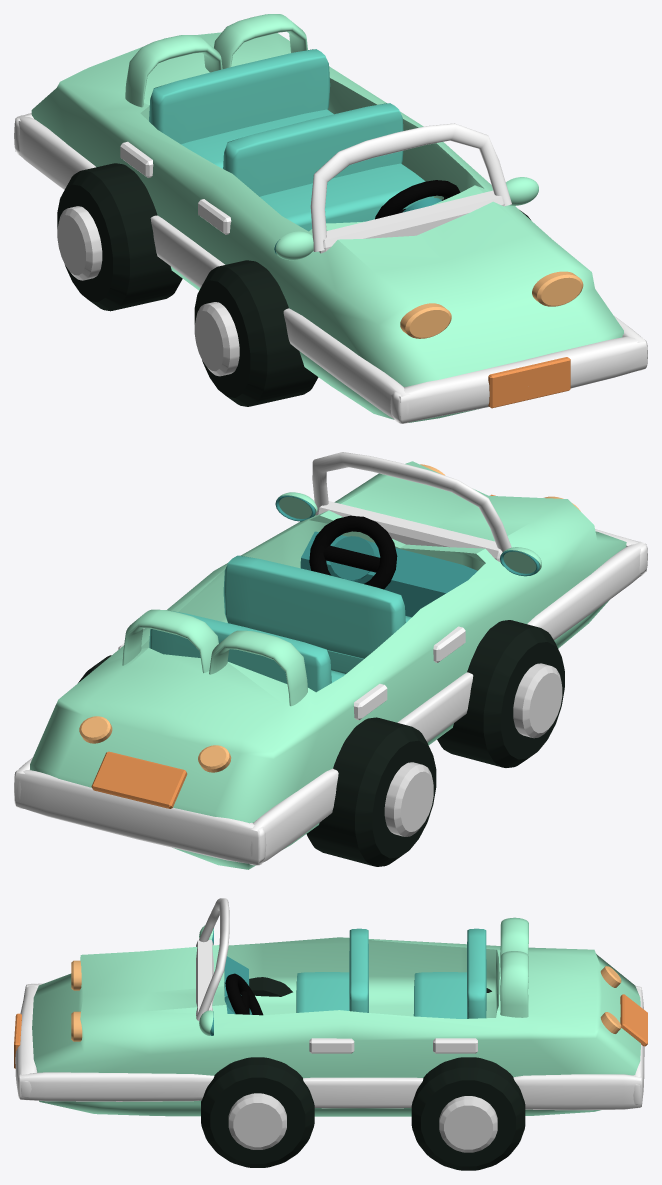
File: car_blue.fbx
The picture shows the model from 3 angles, top to bottom: view 1: azimuth 30°, elevation 25°; view 2: azimuth 150°, elevation 25°; view 3: azimuth 270°, elevation 25°; orthographic projection. The views are drawn at different scales.
Parts seen in each view (by area): view 1: pasted__pasted__pCube13.007, pasted__pasted__pasted__pCylinder4; view 2: pasted__pasted__pCube13.007, pasted__pasted__pasted__pCylinder4; view 3: pasted__pasted__pCube13.007, pasted__pasted__pasted__pCylinder4.
Part boxes in pixels (left/top/right/bottom): pasted__pasted__pCube13.007: left=14, top=14, right=647, bottom=423; pasted__pasted__pasted__pCylinder4: left=57, top=163, right=530, bottom=406; pasted__pasted__pCube13.007: left=14, top=452, right=647, bottom=869; pasted__pasted__pasted__pCylinder4: left=78, top=620, right=564, bottom=866; pasted__pasted__pCube13.007: left=14, top=898, right=647, bottom=1116; pasted__pasted__pasted__pCylinder4: left=201, top=977, right=525, bottom=1170.
Bounding box in the file's own units: 555 × 388 × 1128.
